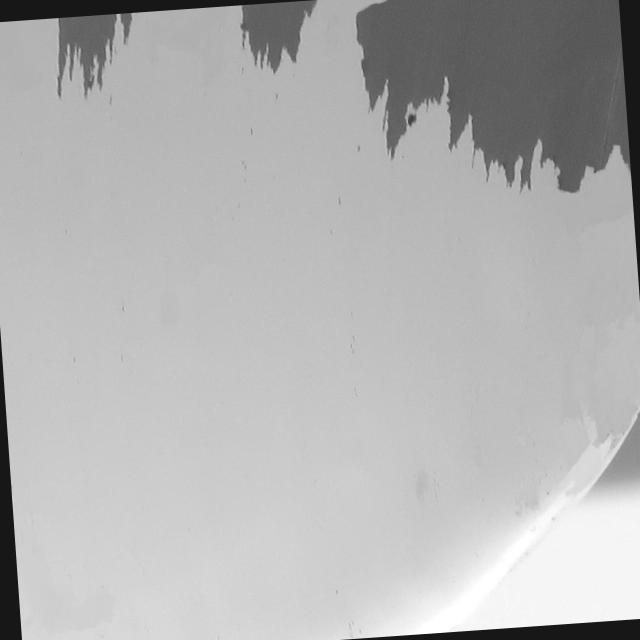corrosion: (42, 13, 142, 105), (230, 0, 327, 75)
surface_peeling: (347, 0, 632, 213)
